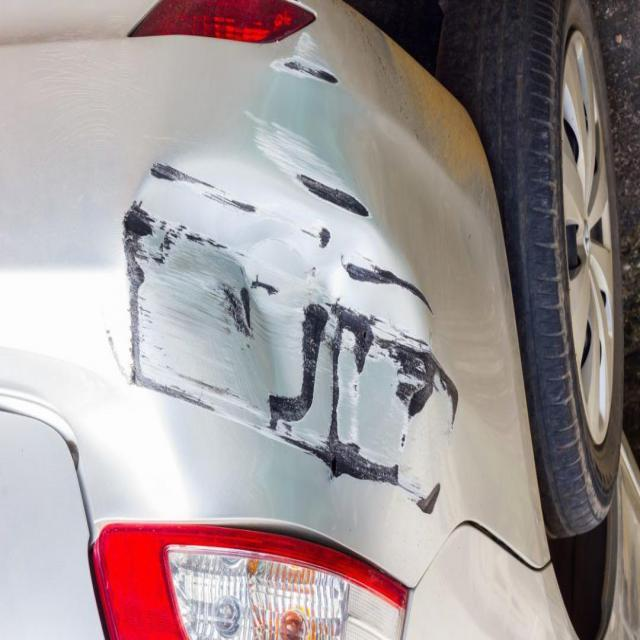dent: (89, 116, 476, 524)
